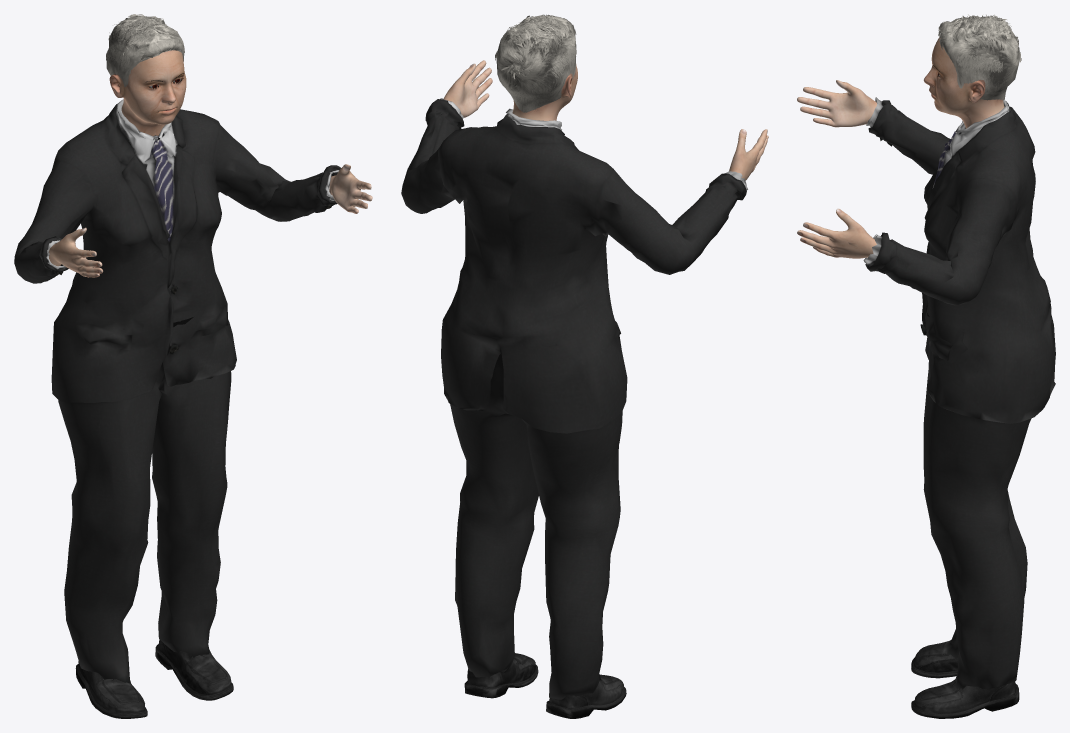
File: businesswoman-source.glb
3 renders of one model, left to right at view 1: azimuth 30°, elevation 25°; view 2: azimuth 150°, elevation 25°; view 3: azimuth 270°, elevation 25°, orthographic. The views are drawn at different scales.
Parts seen in each view (by area): view 1: male_elegantsuit01, Harper | anatomical body, shoes04, short01; view 2: male_elegantsuit01, short01, shoes04, Harper | anatomical body; view 3: male_elegantsuit01, Harper | anatomical body, short01, shoes04.
Part boxes in pixels (x1,y1,x2,y2): male_elegantsuit01: (14,99,340,683); Harper | anatomical body: (49,50,372,277); shoes04: (75,639,233,718); short01: (106,14,184,86); male_elegantsuit01: (401,98,747,699); short01: (495,14,576,112); shoes04: (464,653,626,718); Harper | anatomical body: (443,60,768,180); male_elegantsuit01: (863,97,1055,689); Harper | anatomical body: (797,37,1004,258); short01: (938,14,1021,100); shoes04: (911,640,1019,718).
Bounding box in the file's own units: 0.8114 × 1.68 × 0.5865.
9 materials, 9 textured.
